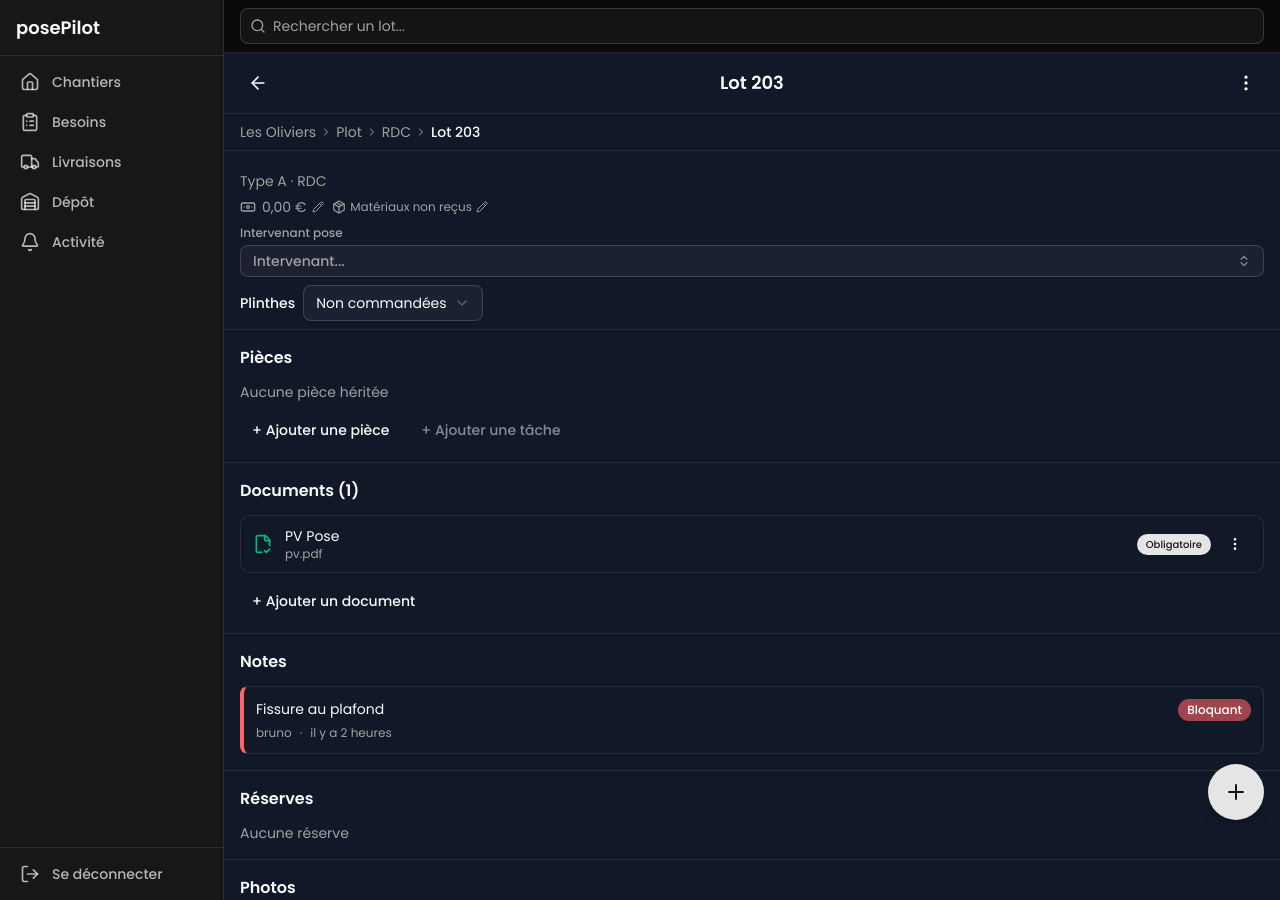
Test: LotIndexPage — Notes integration › opens FAB menu with Note and Photo items
The width and height of the screenshot is (1280, 900).
expect the heading "Lot 203" is shown: met, box [720,69,784,97]
Click the button named "Ajouter". click: point(1236, 792)
box: [1208,764,1264,820]
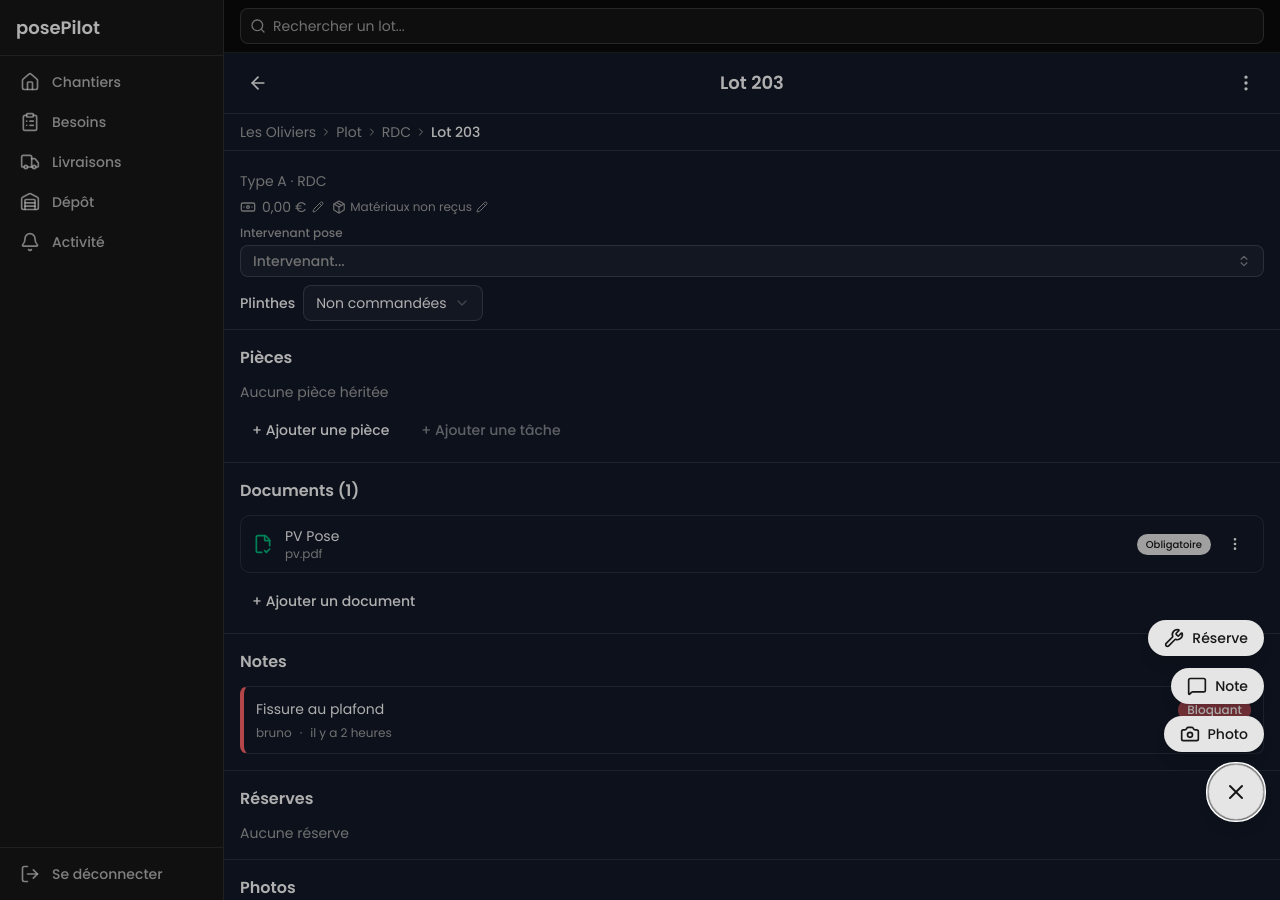
expect the button "Note" is shown: met, box [1171,668,1264,704]
expect the button "Photo" is shown: met, box [1164,716,1264,752]
